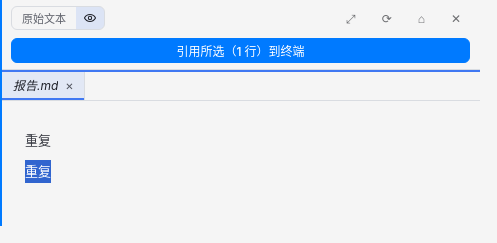
Test: DocumentPanel › maps rendered Markdown selection to source lines: 重复 重复
Expected: the 2nd element showing "重复" is shown, [25, 162, 51, 178]
Click the button "引用所选（1 行）到终端": (240, 50) [11, 38, 470, 63]
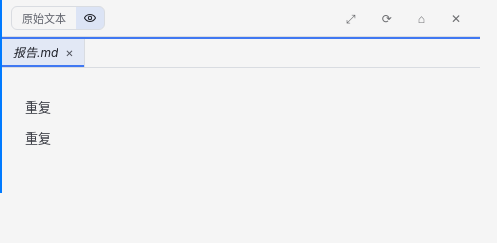
Result: the button "引用所选" is gone
